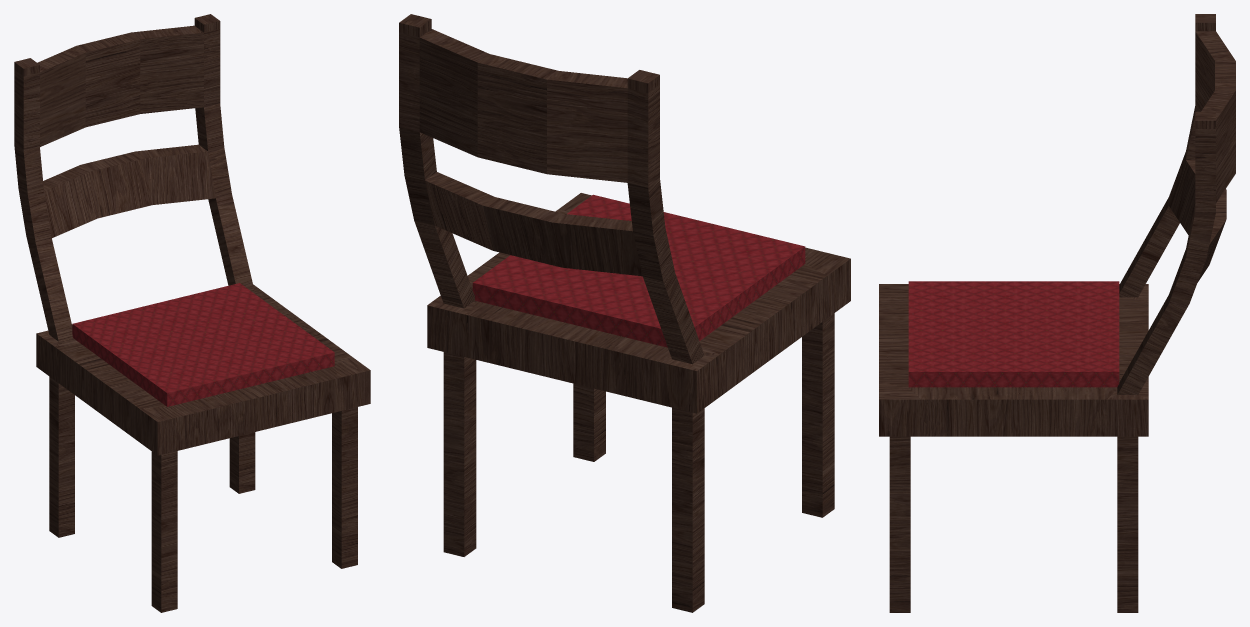
The model's file is silla1.glb.
3 renders of one model, left to right at view 1: azimuth 30°, elevation 25°; view 2: azimuth 150°, elevation 25°; view 3: azimuth 270°, elevation 25°, orthographic. The views are drawn at different scales.
Parts seen in each view (by area): view 1: Silla4; view 2: Silla4; view 3: Silla4.
Boxes of the visible parts, bbox=[...] form: Silla4: bbox=[14, 14, 370, 612]; Silla4: bbox=[399, 14, 850, 612]; Silla4: bbox=[879, 14, 1235, 612].
Size of the model in its own units: 1.3 by 2.58 by 1.7.
Materials: 1 (1 with a texture image).
